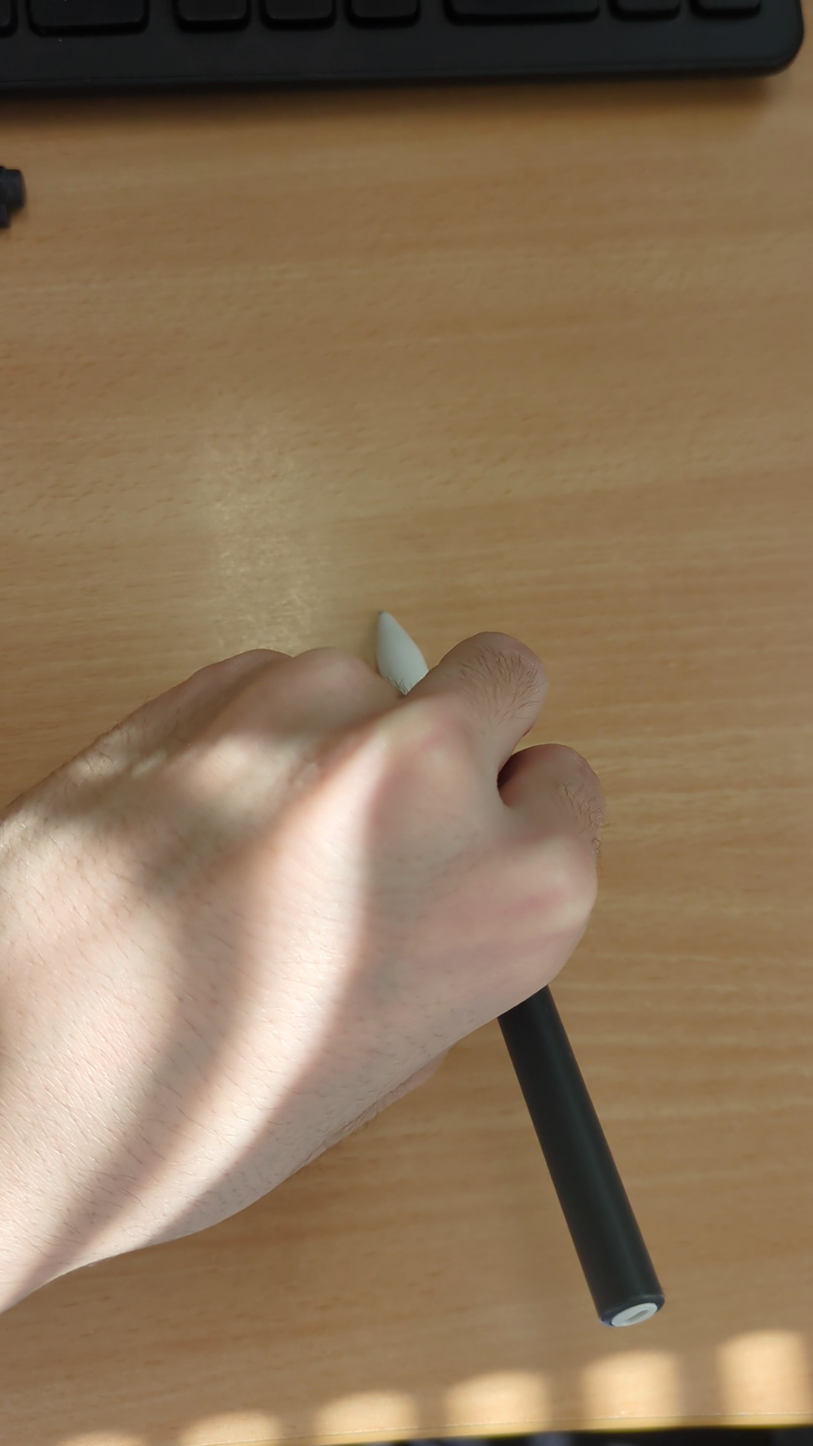pen: (365, 605, 668, 1330)
tip: (357, 598, 437, 673)
